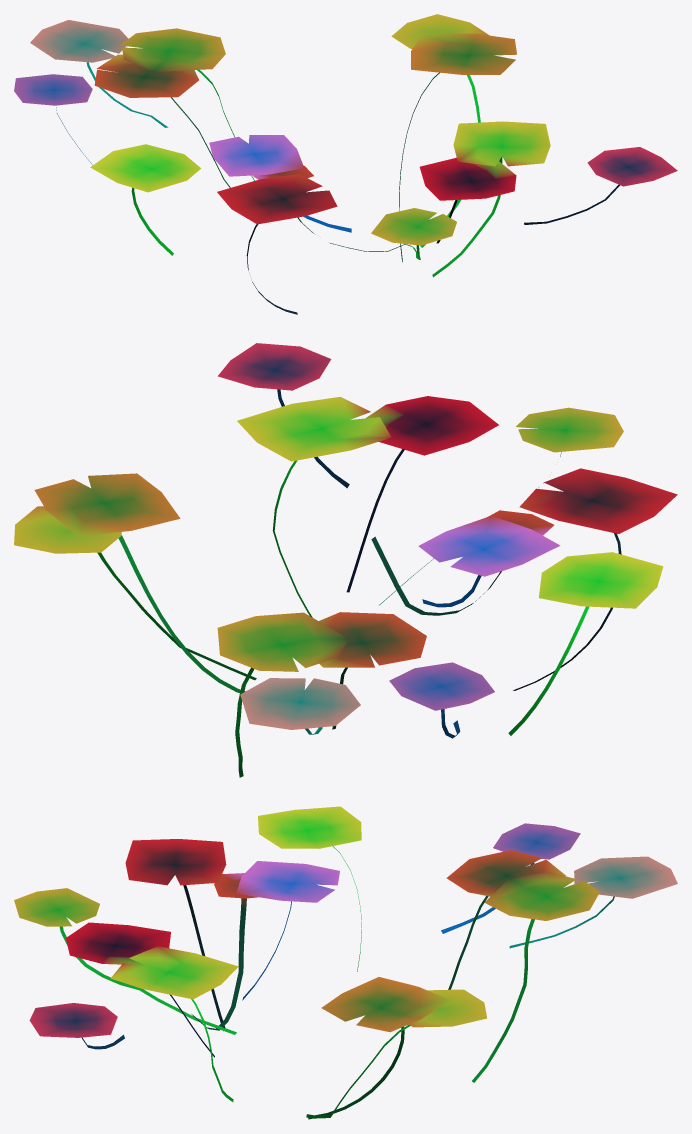
Rendered from Rembrandt_Water_Lily_uc2kajgia_Mid_uc2kajgia_VarD_LOD0.fbx.
The picture shows the model from 3 angles, top to bottom: view 1: azimuth 30°, elevation 25°; view 2: azimuth 150°, elevation 25°; view 3: azimuth 270°, elevation 25°; orthographic projection. The views are drawn at different scales.
Visible parts, largest first — view 1: _c535_VarD_LOD1; view 2: _c535_VarD_LOD1; view 3: _c535_VarD_LOD1.
Boxes of the visible parts, <box> form: _c535_VarD_LOD1: <box>14,14,677,314</box>; _c535_VarD_LOD1: <box>14,343,677,777</box>; _c535_VarD_LOD1: <box>14,806,677,1119</box>.
Size of the model in its own units: 130 by 44.14 by 161.
